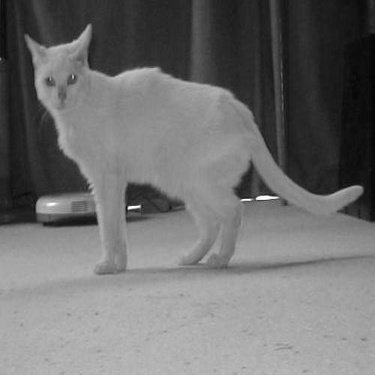cat: (7, 10, 369, 281)
